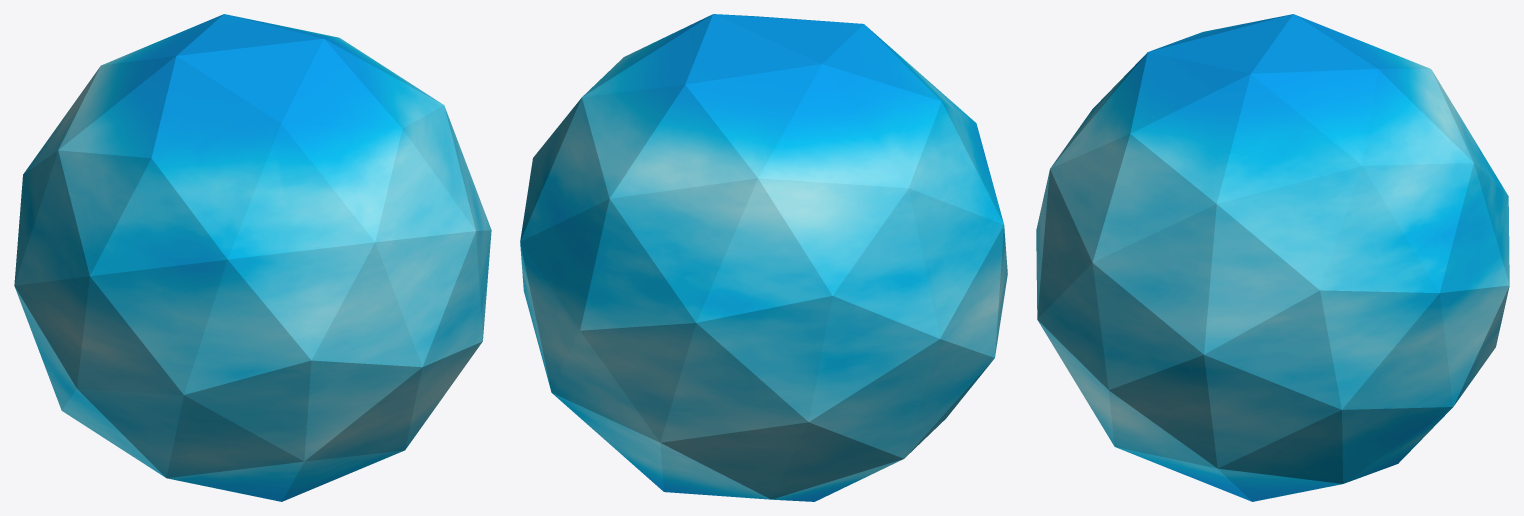
File: sky.obj
3 views of the same model, side by side, from view 1: azimuth 30°, elevation 25°; view 2: azimuth 150°, elevation 25°; view 3: azimuth 270°, elevation 25° (orthographic). The views are drawn at different scales.
Bounding box in the file's own units: 123 × 122 × 123.
Materials: 1 (1 with a texture image).
